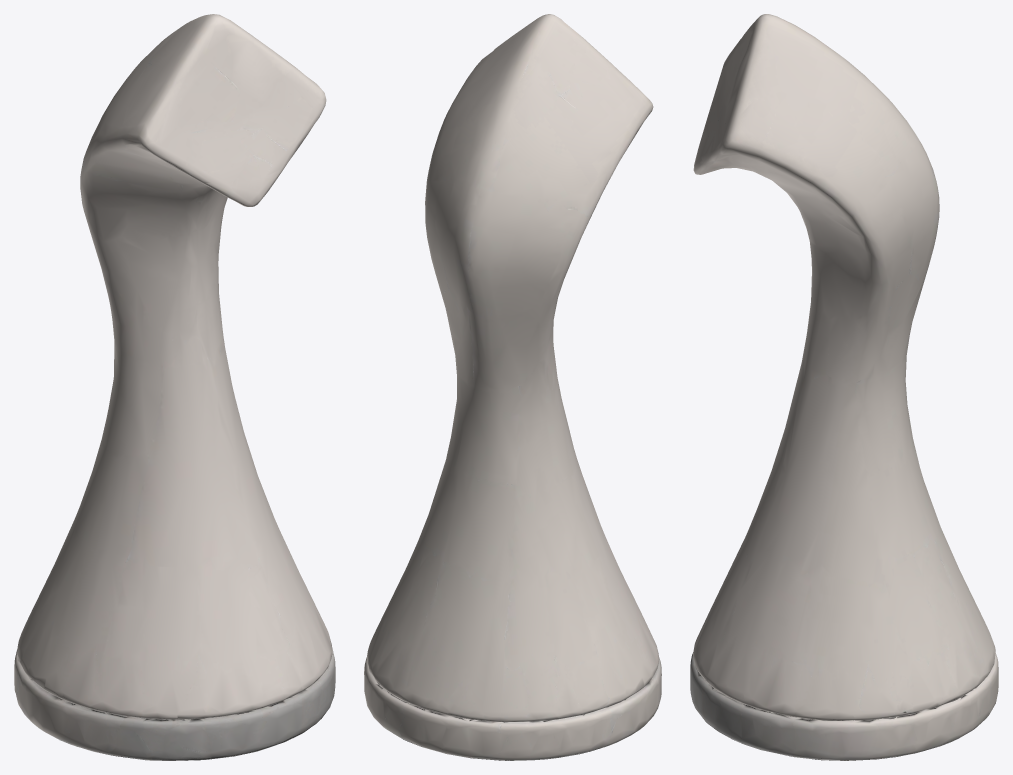
File: knight-white.glb
The picture shows the model from 3 angles, left to right: view 1: azimuth 30°, elevation 25°; view 2: azimuth 150°, elevation 25°; view 3: azimuth 270°, elevation 25°; orthographic projection. The views are drawn at different scales.
Bounding box in the file's own units: 0.4925 × 1.2 × 0.4913.
Materials: 1 (1 with a texture image).
